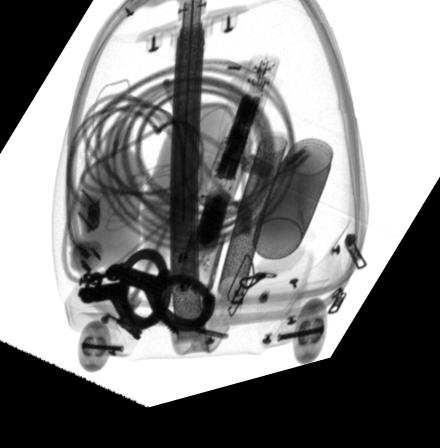Baton: (190, 68, 280, 261)
HandCuffs: (75, 253, 215, 345)
